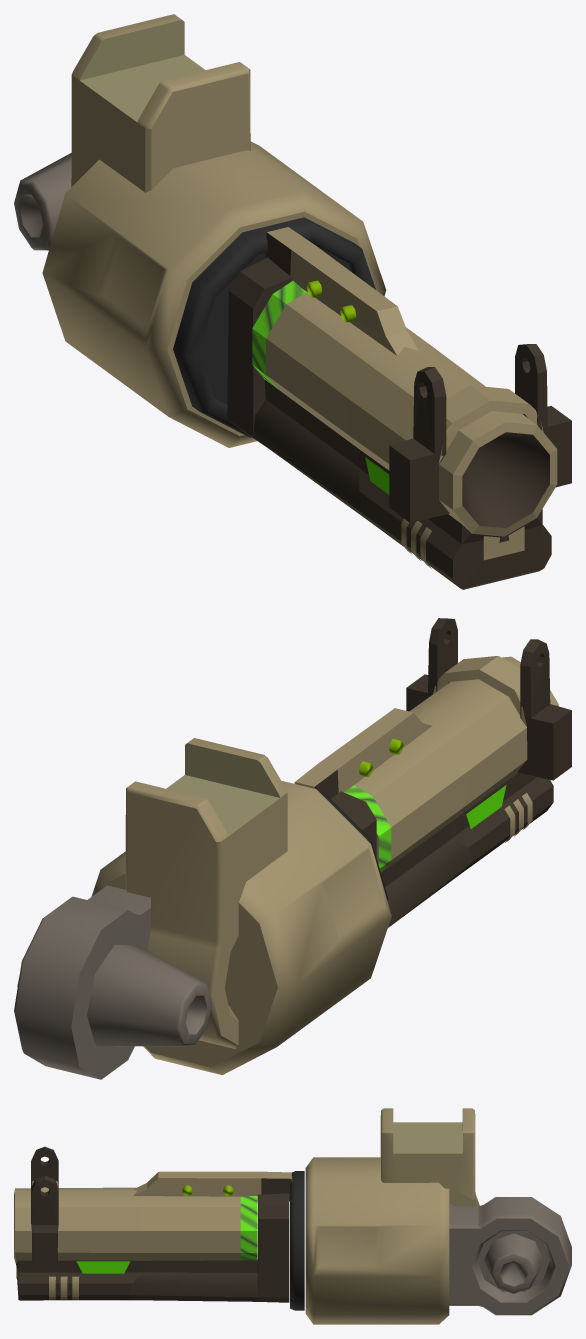
File: Weapon7.fbx
3 views of the same model, one above another, from view 1: azimuth 30°, elevation 25°; view 2: azimuth 150°, elevation 25°; view 3: azimuth 270°, elevation 25° (orthographic). The views are drawn at different scales.
Visible parts, largest first — view 1: weapon7; view 2: weapon7; view 3: weapon7.
Boxes of the visible parts, <box> form: weapon7: <box>14,14,571,589</box>; weapon7: <box>14,618,571,1079</box>; weapon7: <box>14,1108,571,1324</box>.
Bounding box in the file's own units: 0.2572 × 0.3266 × 0.8512.
